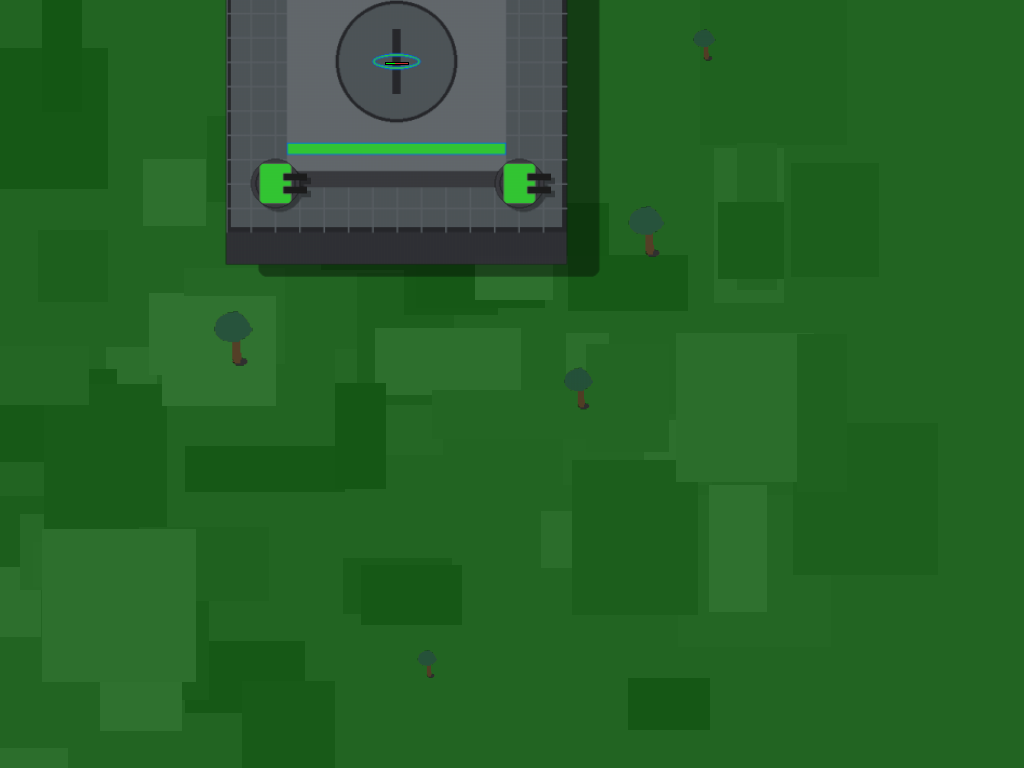FighterJet_usa: (196, 0, 597, 401)
